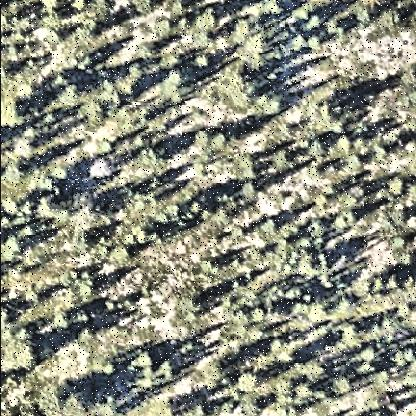tree-top: (2, 326, 44, 376), (78, 88, 118, 130), (74, 391, 130, 416), (198, 355, 232, 393), (43, 383, 81, 416), (161, 66, 192, 102), (36, 192, 69, 225), (138, 143, 173, 174), (191, 9, 221, 45), (256, 88, 288, 118), (195, 127, 229, 155), (1, 97, 30, 129), (378, 7, 408, 37), (298, 356, 329, 385), (234, 152, 264, 181), (331, 135, 359, 166), (352, 275, 380, 305), (341, 320, 369, 349), (191, 194, 218, 224), (76, 273, 104, 301), (156, 356, 182, 384), (143, 397, 181, 416), (1, 236, 24, 267), (308, 136, 334, 163), (237, 180, 263, 207), (326, 13, 351, 41), (384, 175, 410, 201), (112, 244, 138, 270), (88, 159, 116, 183), (136, 223, 166, 245), (188, 292, 212, 318), (292, 380, 316, 406), (299, 252, 323, 278), (326, 113, 354, 135), (355, 4, 379, 29), (308, 301, 332, 326), (384, 269, 407, 295), (271, 148, 295, 171), (73, 233, 95, 257), (329, 375, 351, 399), (401, 61, 416, 95), (138, 41, 161, 63), (370, 366, 391, 390), (76, 306, 96, 331), (307, 12, 327, 33), (250, 306, 270, 326), (264, 217, 284, 237), (307, 33, 327, 53), (201, 256, 221, 276), (292, 34, 310, 54), (135, 1, 160, 15), (266, 2, 288, 16)
